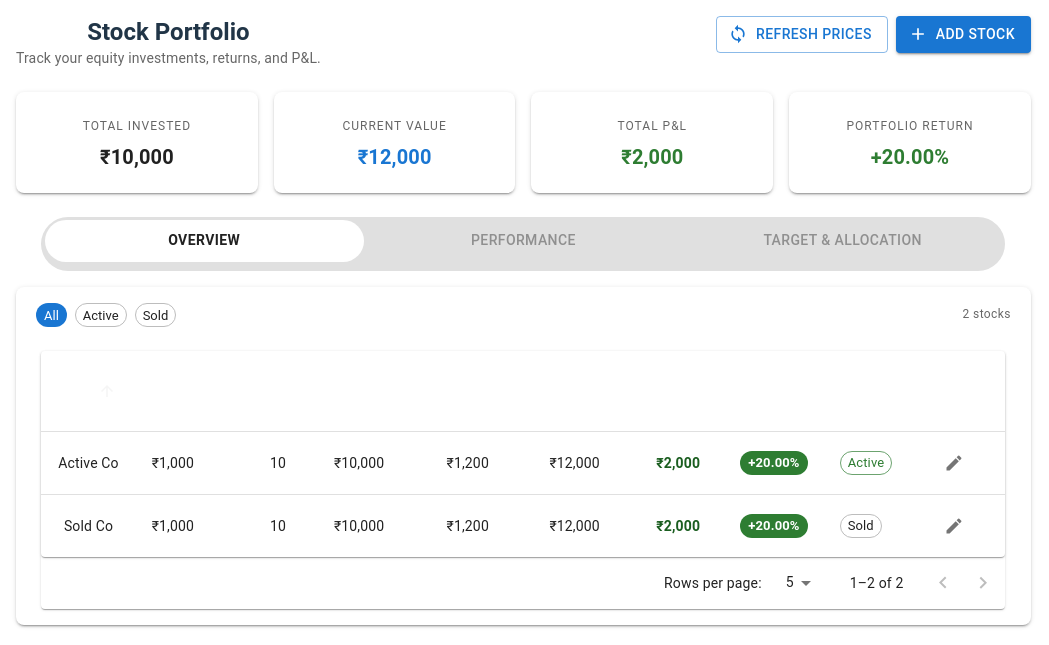
Test case: Stocks › filter chips switch active/sold filters
Click the button "Active": (101, 315) [75,303,127,327]
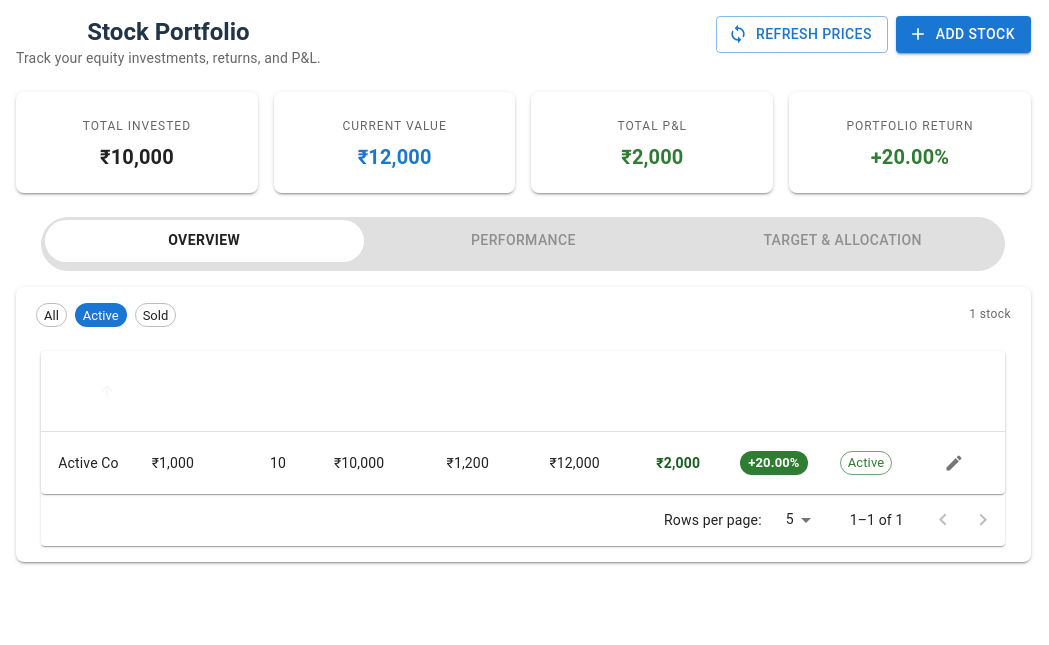
Expected: the text "Active Co" is shown, [41,431,136,494]
Click the button "Sold": (155, 315) [135,303,176,327]
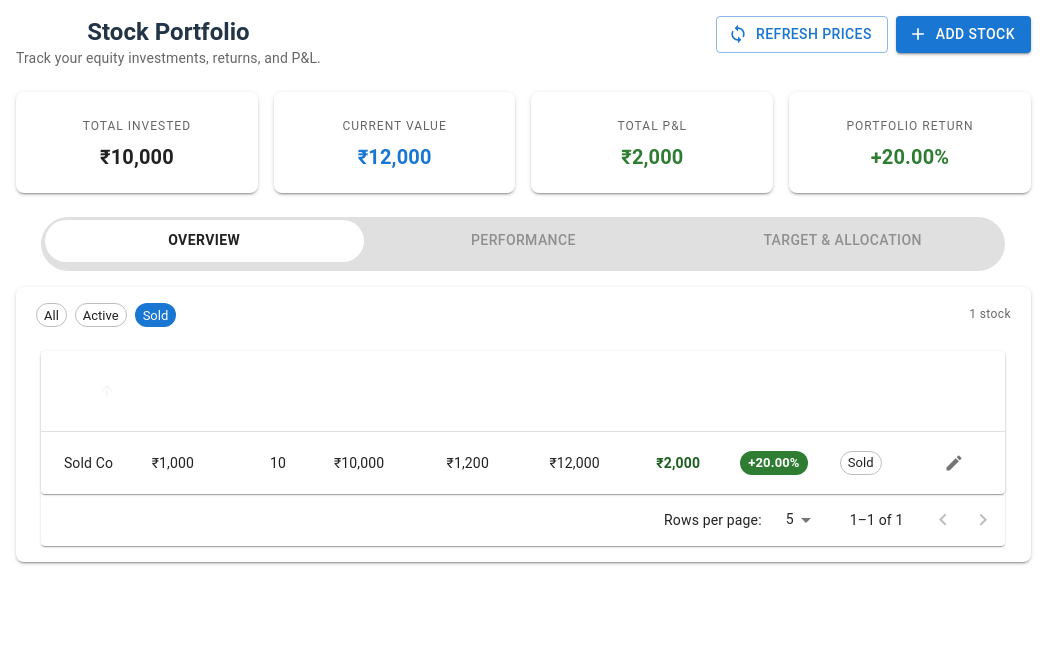
Now the text "Sold Co" is shown, box [41,431,136,494]
